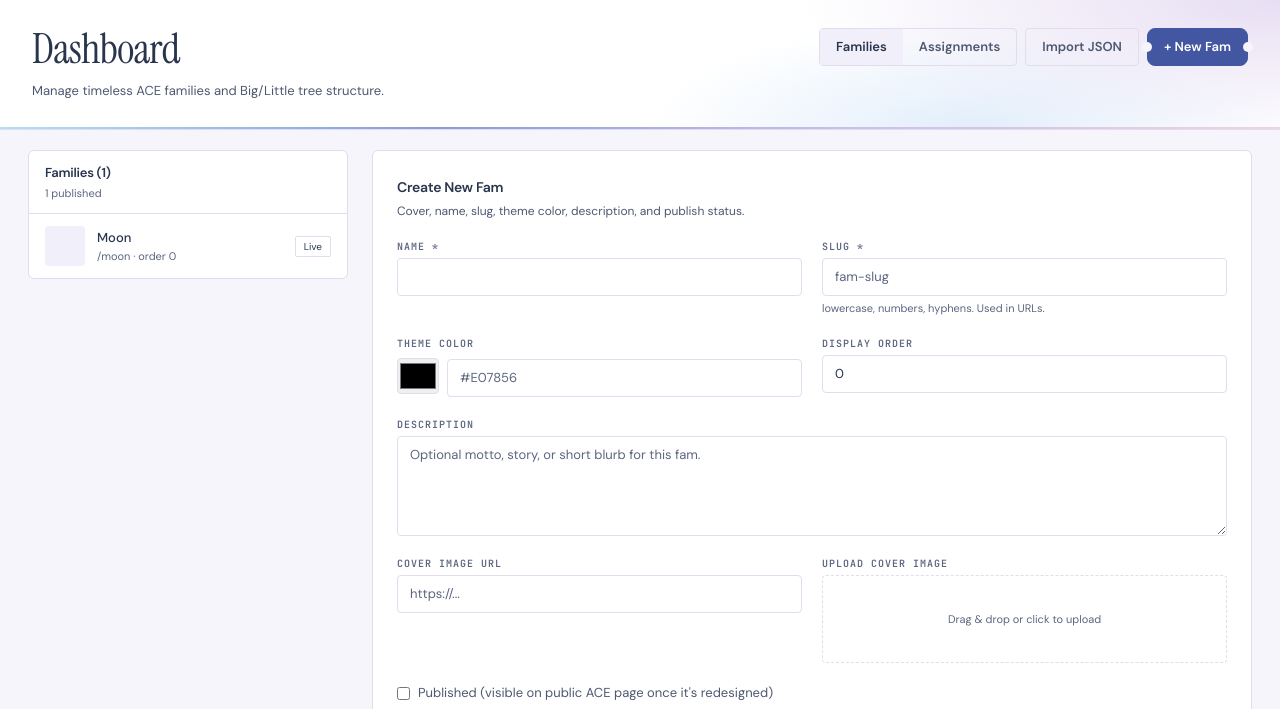
Test: cancelling the fam delete dialog deletes nothing
Click the button "Moon /moon · order 0 Live".
click(65, 246)  # box [29,214,347,278]
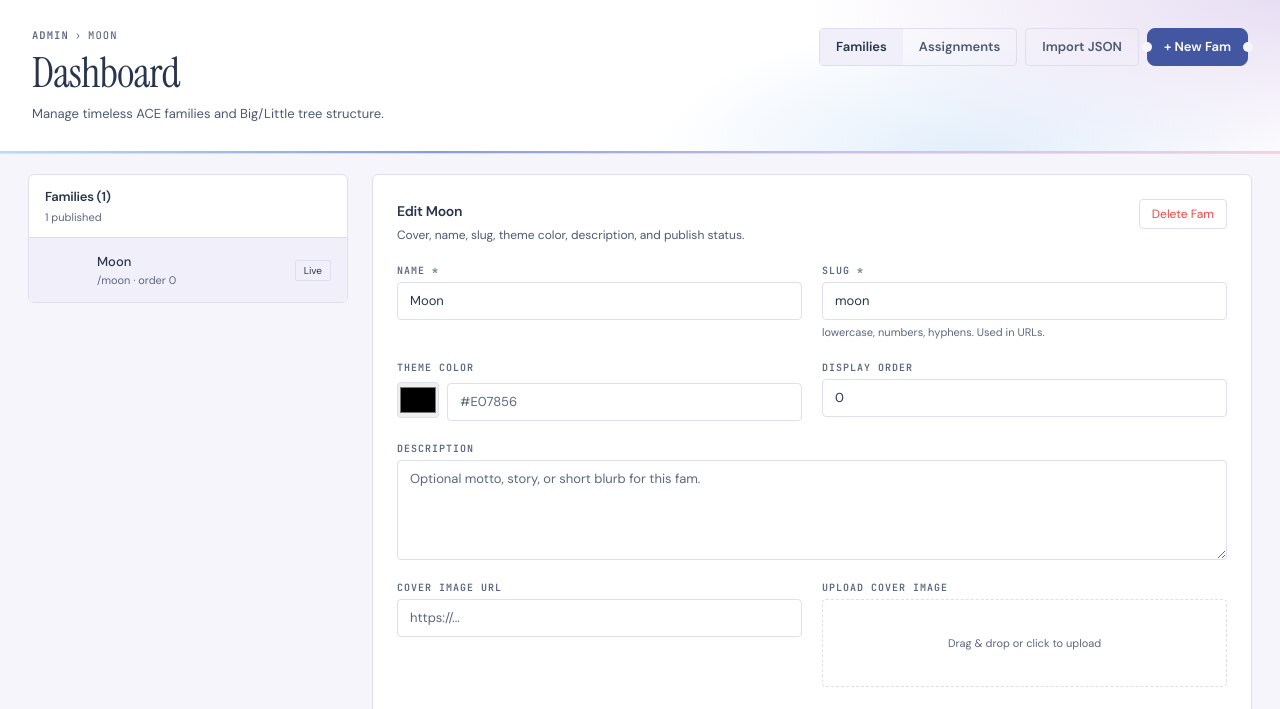
expect the button "Delete Fam" is shown: met
Click the button "Delete Fam".
click(1183, 214)  # box [1139,198,1227,228]
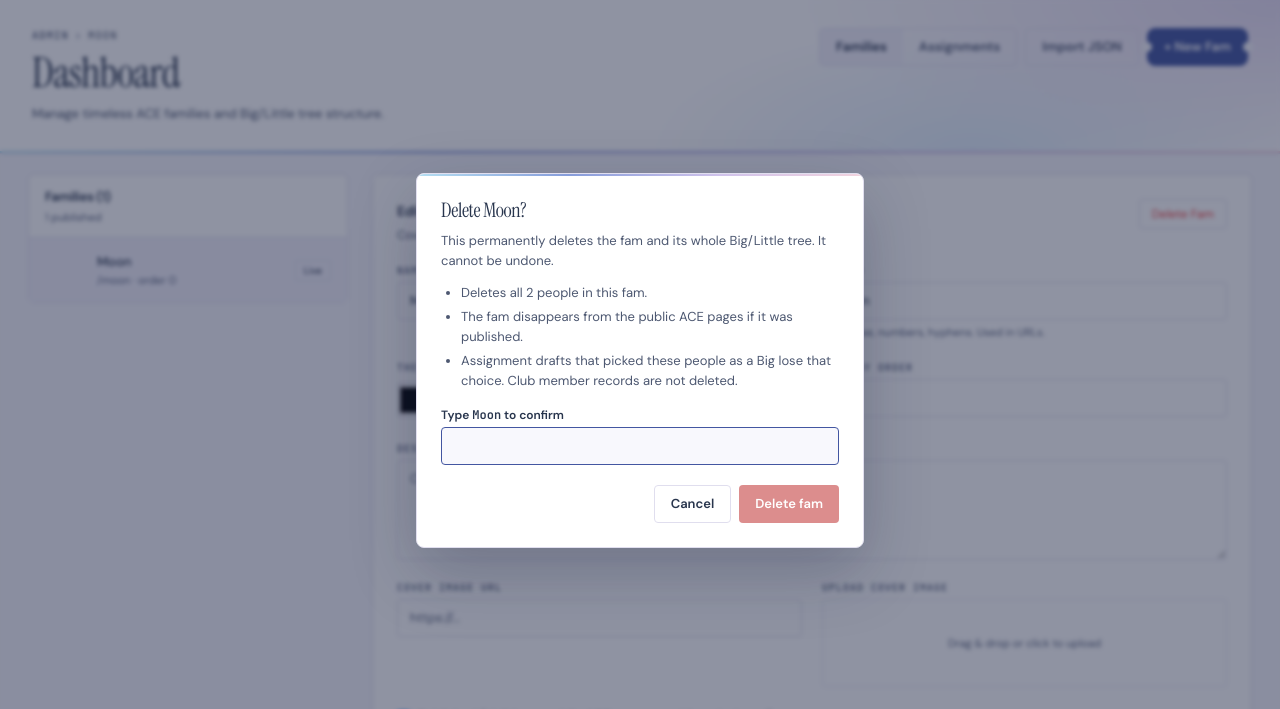
Click the button "Cancel".
click(692, 504)  # box [654,484,731,522]
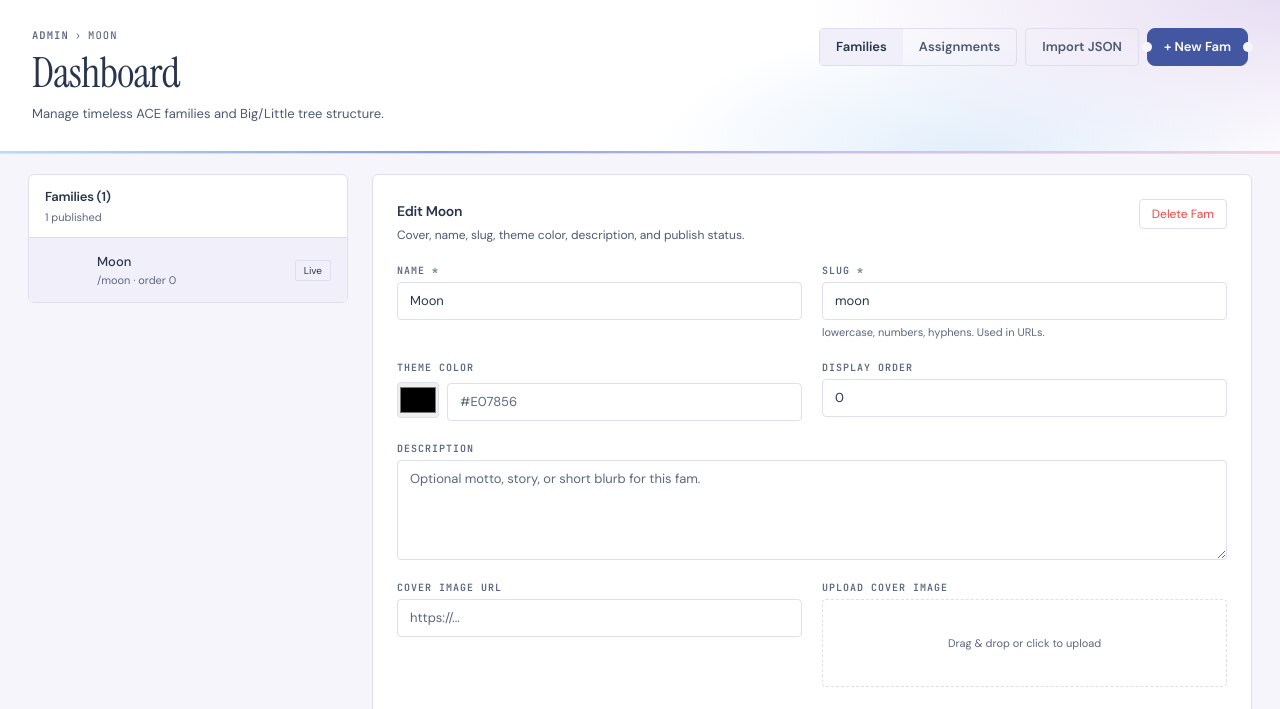
expect the dialog is gone: met
